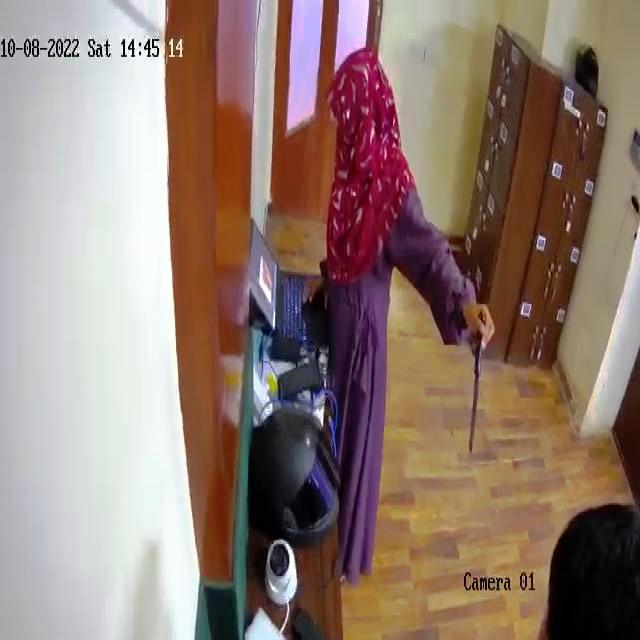Knife: (462, 311, 503, 464)
